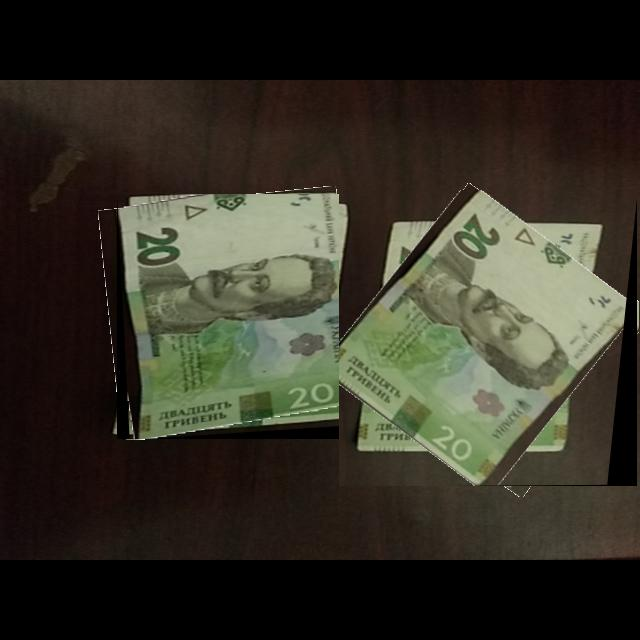20uah: (339, 190, 630, 487), (117, 194, 356, 440)
